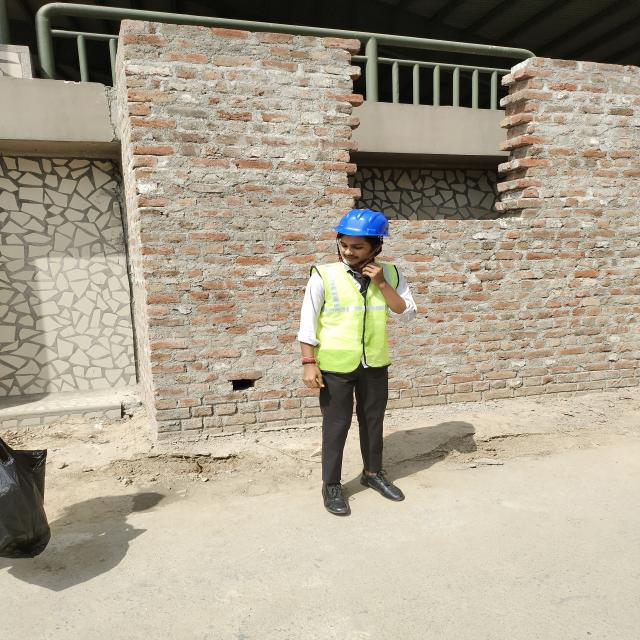safe: (298, 210, 414, 514)
